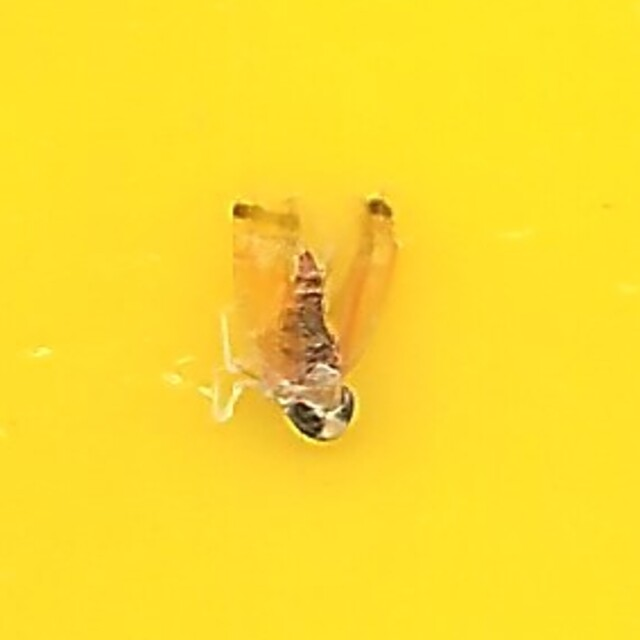Hemiptera: (226, 189, 414, 451)
